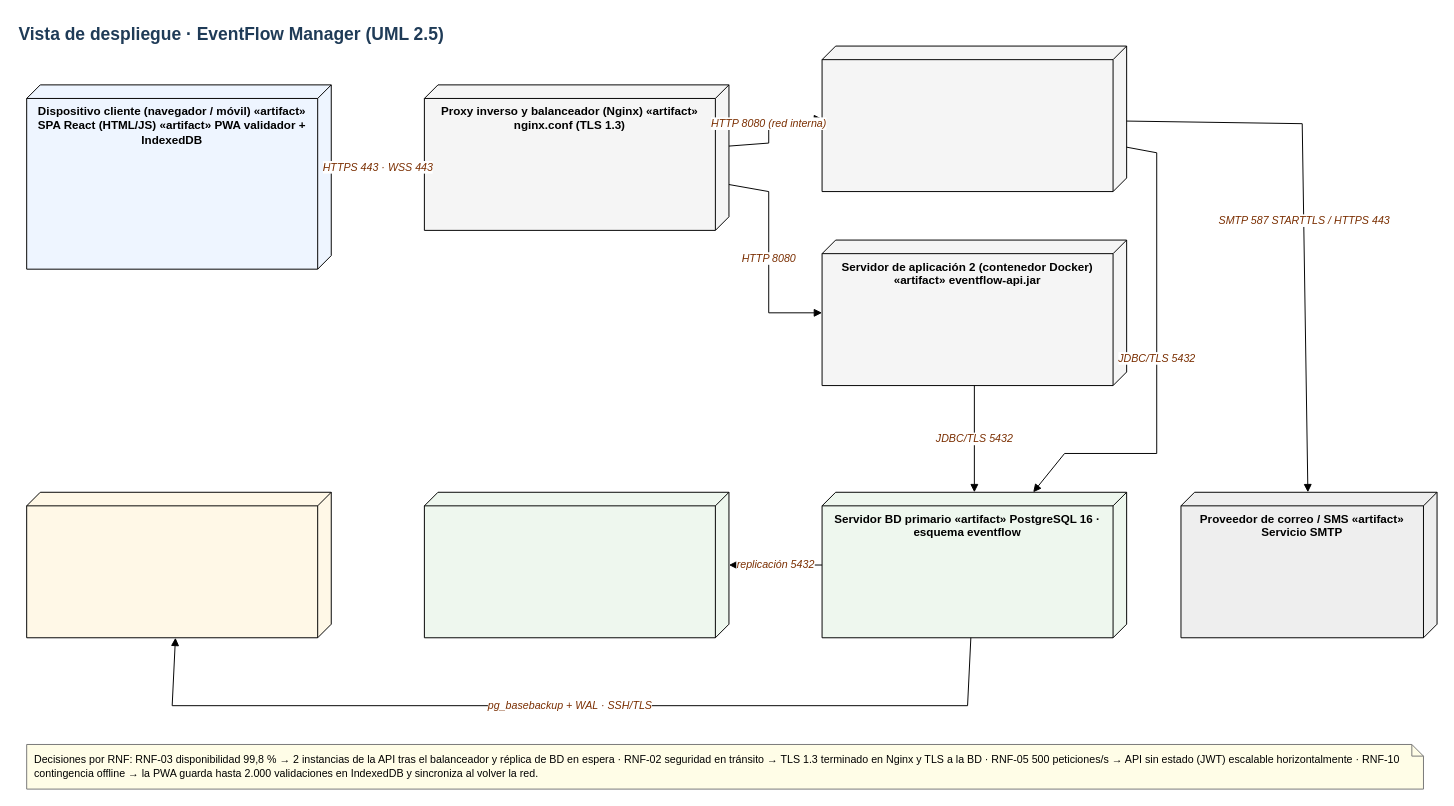
The diagram is 1454 pixels wide and 806 high, and some of its shapes have lost their labels. Each missing label, with the centre of its shape:
Almacenamiento de respaldos «artifact» Copias diarias + WAL: the point at 178,564
Servidor BD réplica (en espera) «artifact» PostgreSQL 16 réplica: the point at 576,564
Servidor de aplicación 1 (contenedor Docker) «artifact» eventflow-api.jar: the point at 974,118
